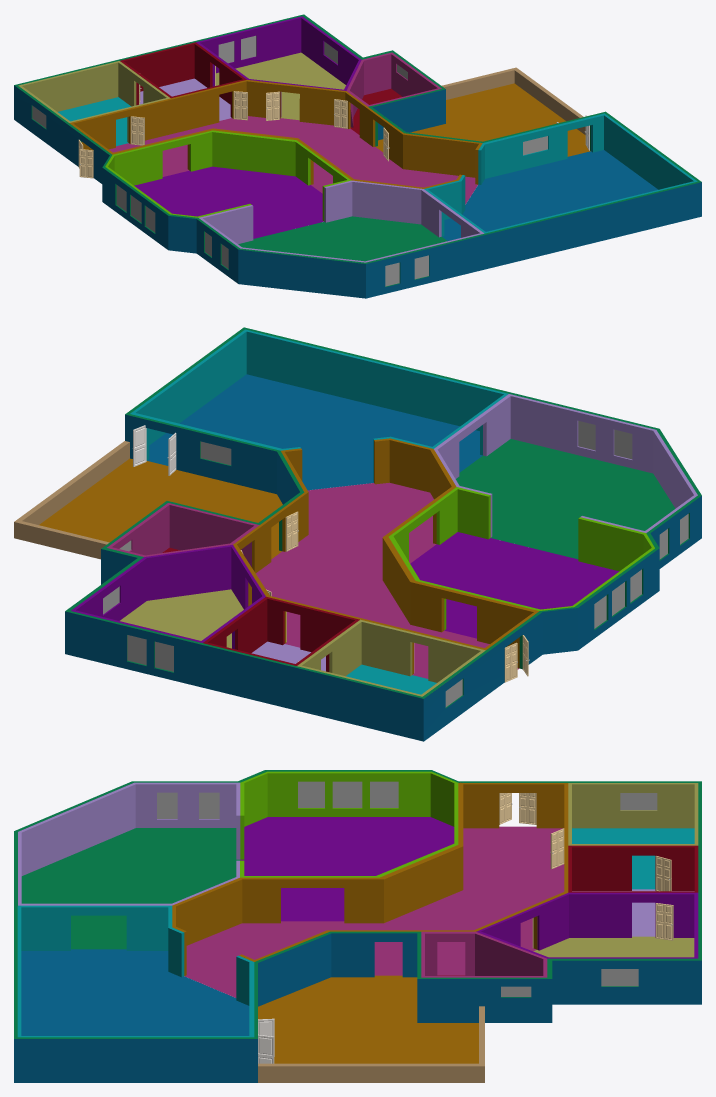
File: Walls_Doors_Floor.fbx
The picture shows the model from 3 angles, top to bottom: view 1: azimuth 30°, elevation 25°; view 2: azimuth 150°, elevation 25°; view 3: azimuth 270°, elevation 25°; orthographic projection. The views are drawn at different scales.
Visible parts, largest first — view 1: Floor, OutsideWalls, HallwayWalls, KitchenWalls, DiningWalls, LivingroomWalls, NiceBedroomWalls, GrossBedroomWalls, Bathroom2Walls, Bathroom1Walls, PorchWalls, LivingroomWindows (+3 smaller); view 2: Floor, OutsideWalls, KitchenWalls, HallwayWalls, LivingroomWalls, NiceBedroomWalls, DiningWalls, GrossBedroomWalls, Bathroom1Walls, Bathroom2Walls, PorchWalls, LivingroomWindows (+4 smaller); view 3: Floor, OutsideWalls, HallwayWalls, LivingroomWalls, DiningWalls, KitchenWalls, NiceBedroomWalls, GrossBedroomWalls, Bathroom2Walls, PorchWalls, Bathroom1Walls, DiningroomWindows (+8 smaller).
Boxes of the visible parts, x1,y1,x2,y2 form: Floor: (58,52,658,261); OutsideWalls: (14,14,701,298); HallwayWalls: (69,80,482,188); KitchenWalls: (424,113,697,236); DiningWalls: (105,130,351,221); LivingroomWalls: (199,180,484,262); NiceBedroomWalls: (196,16,361,117); GrossBedroomWalls: (18,61,170,142); Bathroom2Walls: (120,42,246,117); Bathroom1Walls: (346,52,441,127); PorchWalls: (441,67,585,134); LivingroomWindows: (205,232,428,286); Floor: (39,374,675,694); OutsideWalls: (65,327,701,741); KitchenWalls: (130,329,508,481); HallwayWalls: (233,438,539,674); LivingroomWalls: (434,394,697,537); NiceBedroomWalls: (71,544,265,649); DiningWalls: (389,487,654,630); GrossBedroomWalls: (297,619,485,696); Bathroom1Walls: (107,503,259,567); Bathroom2Walls: (203,596,359,671); PorchWalls: (14,441,129,559); LivingroomWindows: (578,421,688,559); Floor: (21,817,694,1063); OutsideWalls: (14,770,701,1082); HallwayWalls: (172,782,568,975); LivingroomWalls: (18,782,240,905); DiningWalls: (240,771,458,877); KitchenWalls: (17,905,254,1037); NiceBedroomWalls: (476,892,698,958); GrossBedroomWalls: (568,783,698,845); Bathroom2Walls: (568,845,698,892); PorchWalls: (258,1006,484,1082); Bathroom1Walls: (421,931,547,977); DiningroomWindows: (298,781,398,807).
Size of the model in its own units: 34263 by 2600 by 37026.
